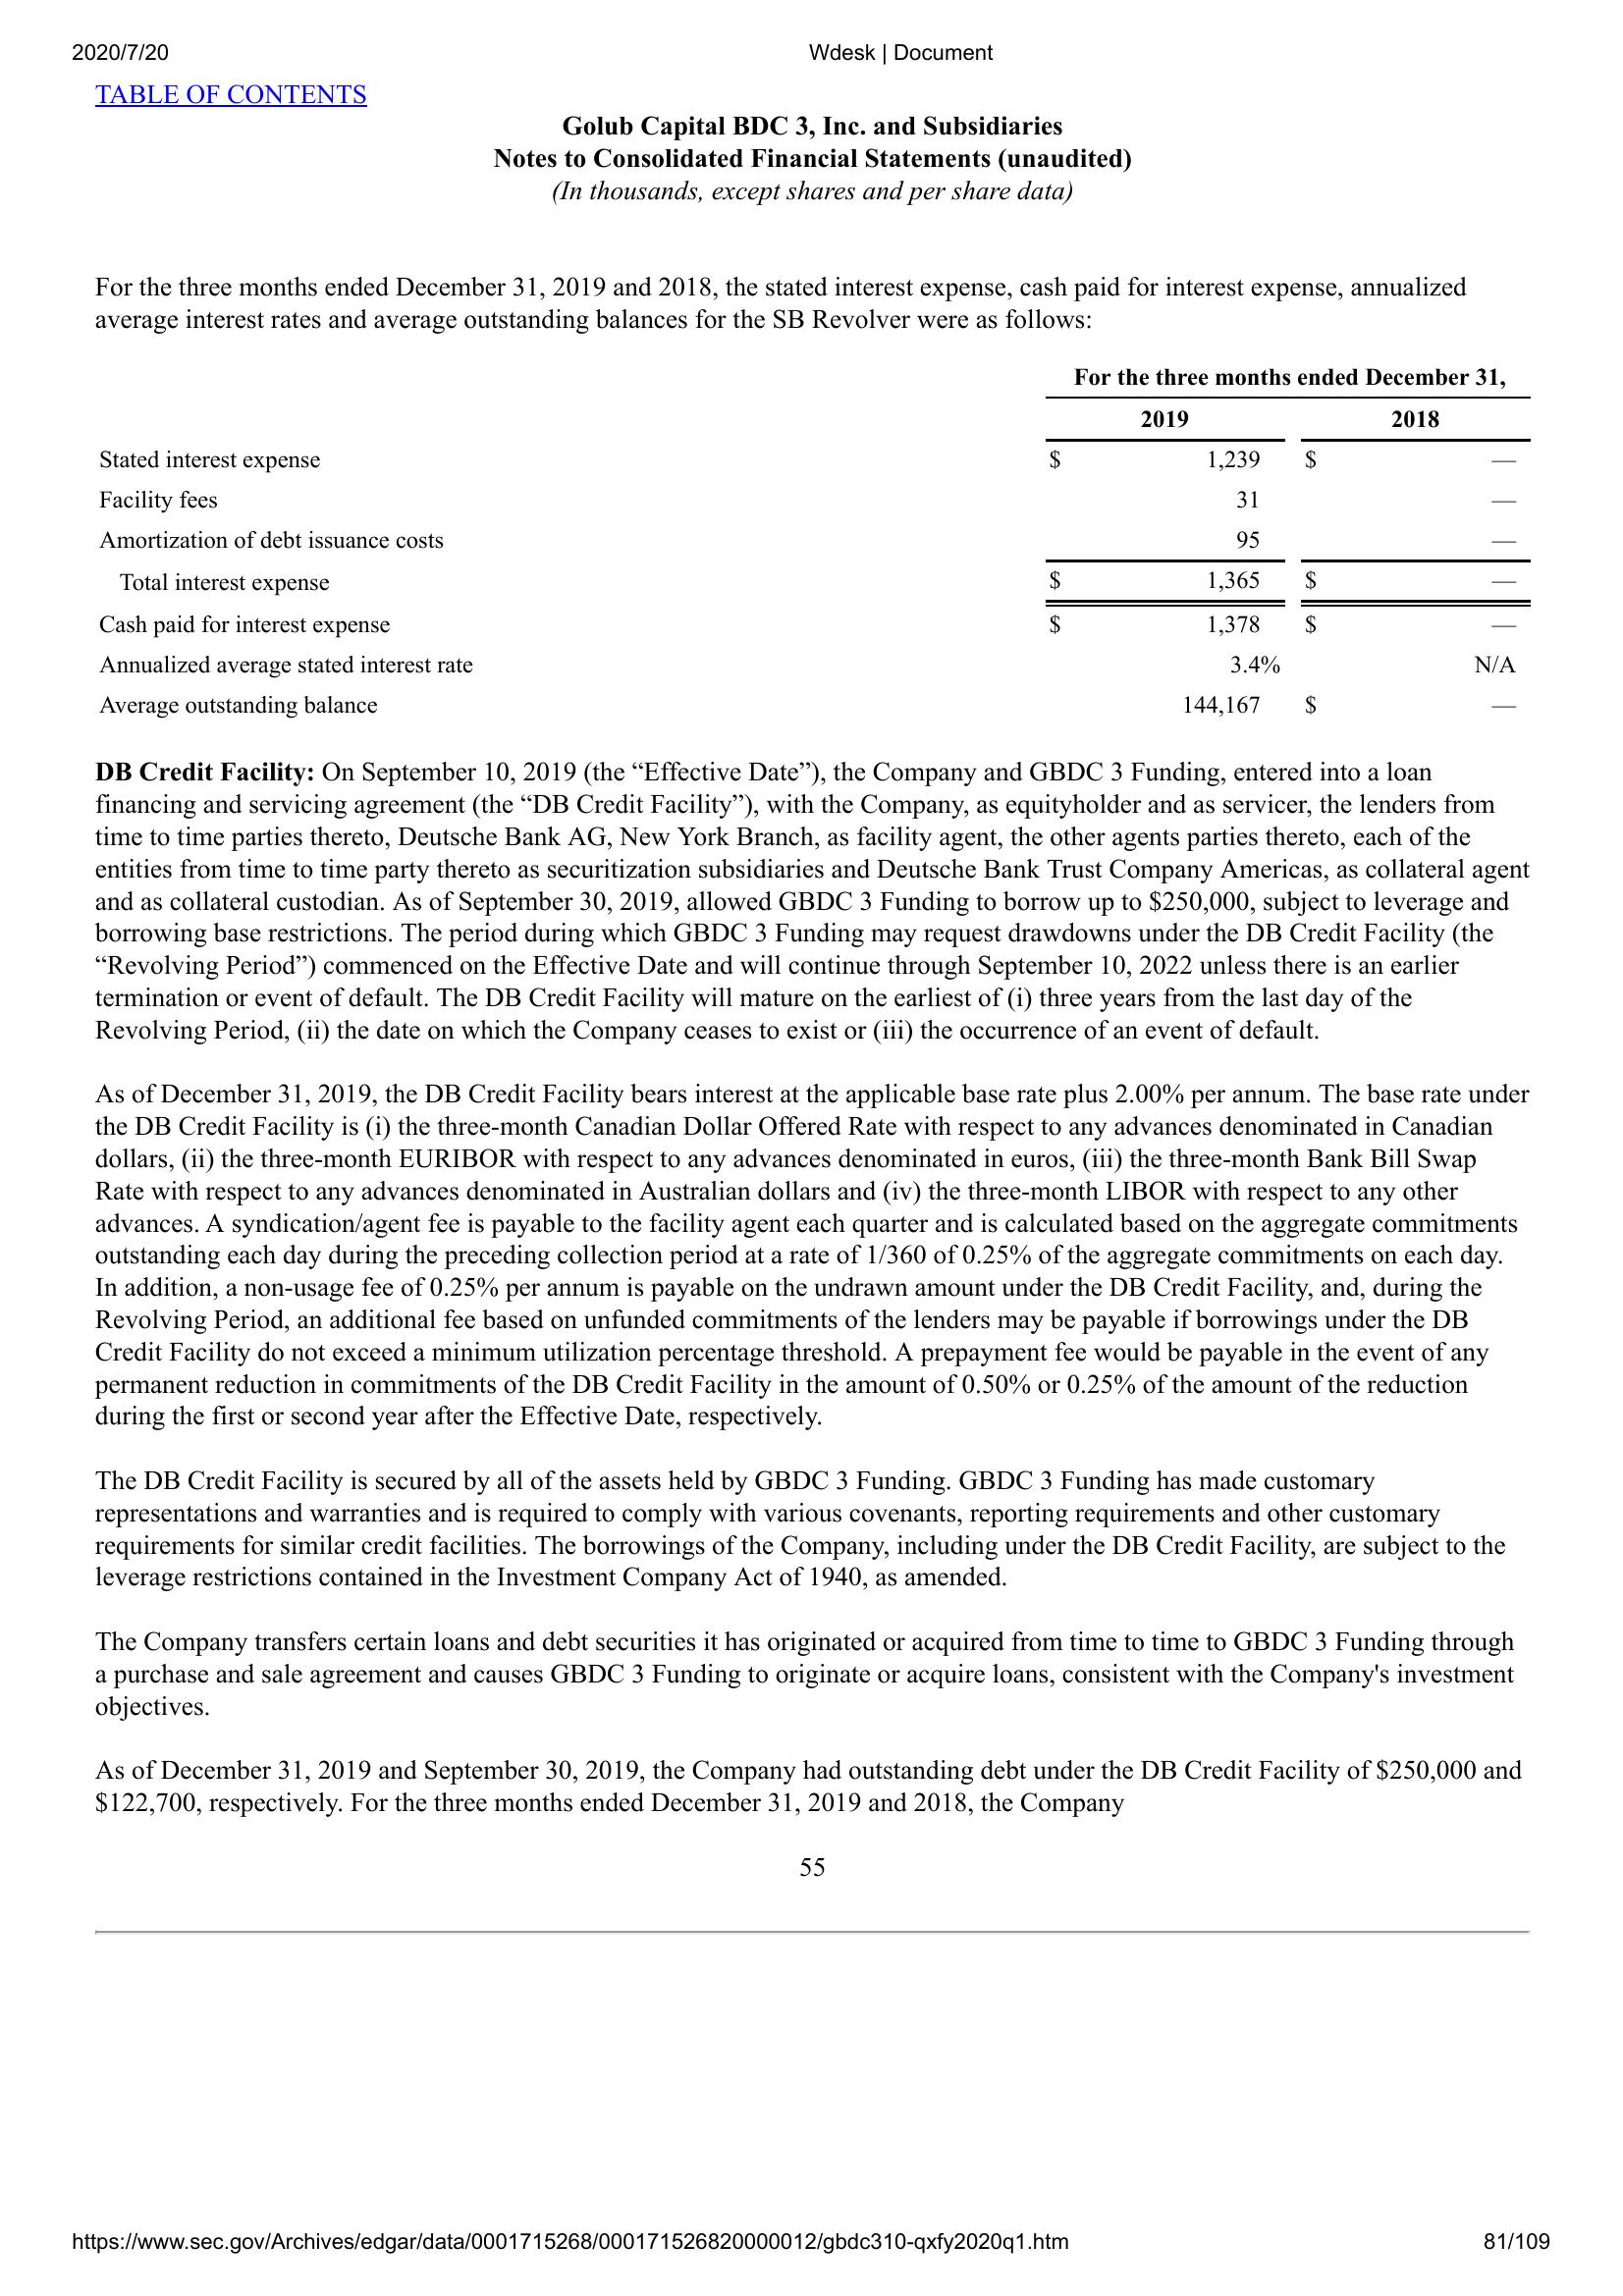table: (74, 349, 1537, 721)
